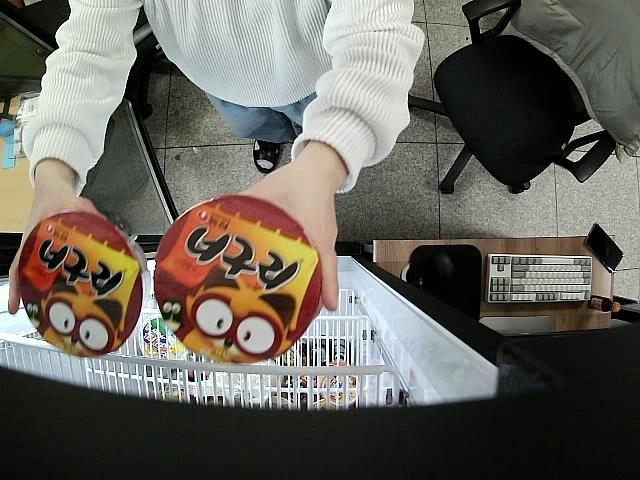05_nuguri_L: (154, 194, 322, 363), (18, 210, 151, 356)
